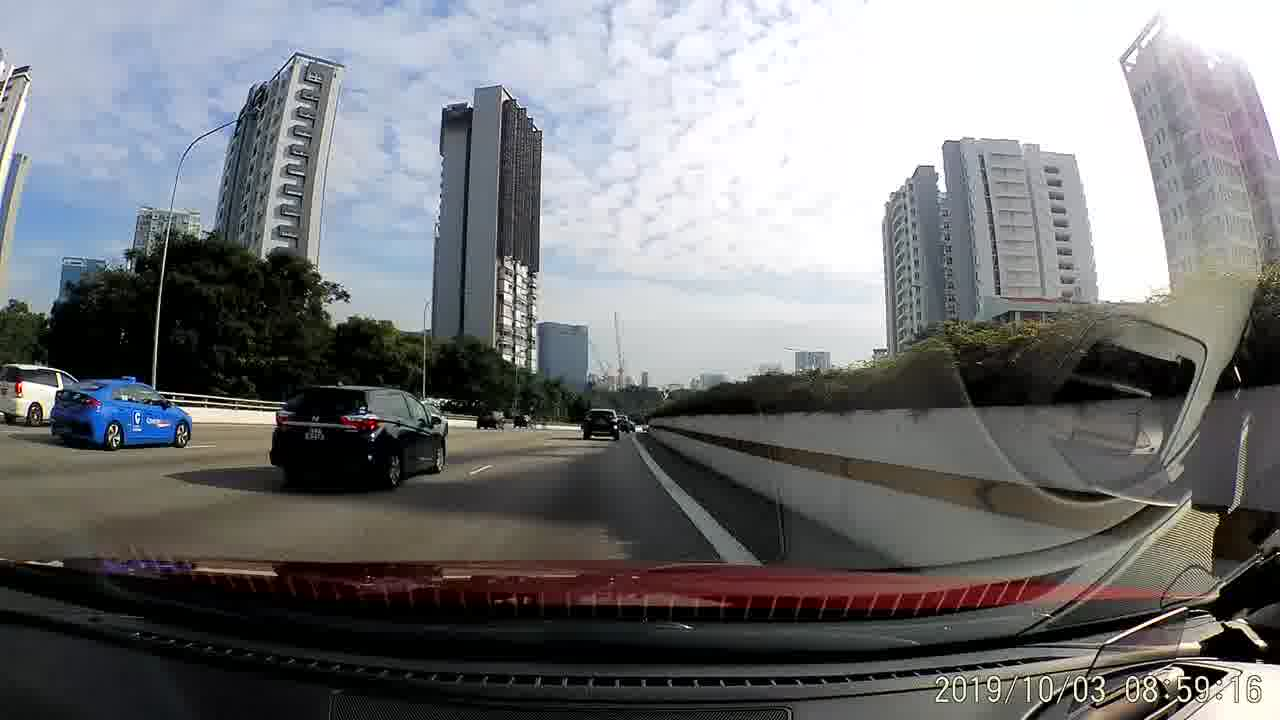car: (266, 375, 449, 494), (53, 364, 194, 452), (2, 358, 76, 427), (580, 404, 622, 441), (475, 406, 503, 431), (511, 411, 534, 428)
